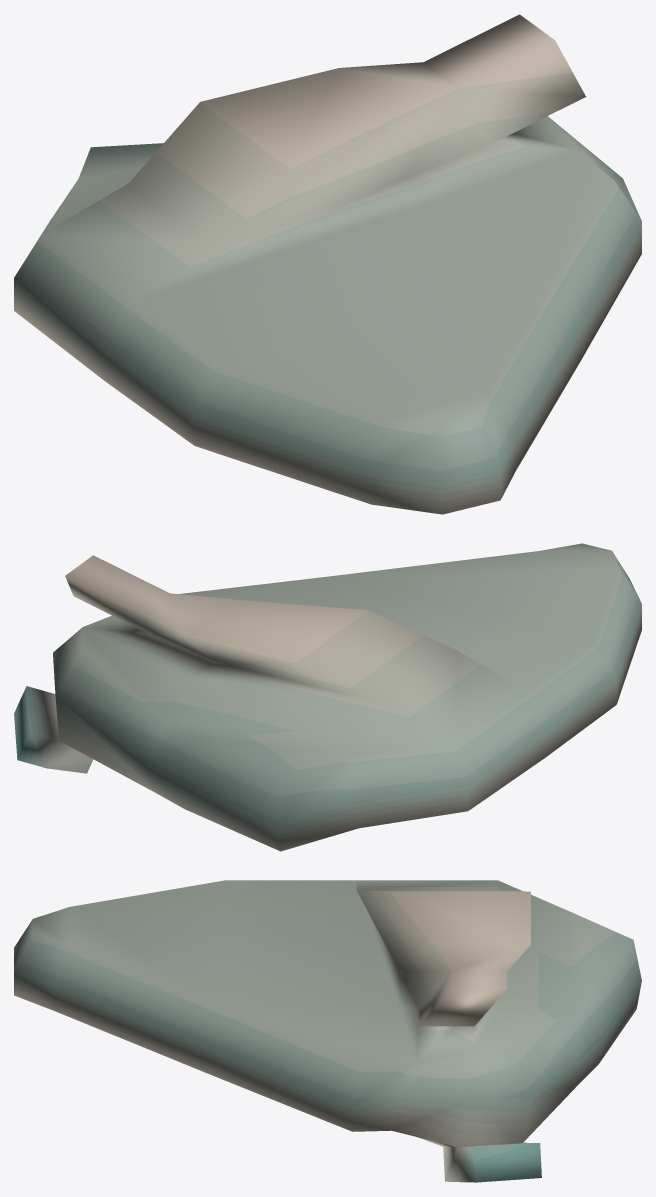
File: Bone_Shoulder.fbx
3 views of the same model, one above another, from view 1: azimuth 30°, elevation 25°; view 2: azimuth 150°, elevation 25°; view 3: azimuth 270°, elevation 25° (orthographic). The views are drawn at different scales.
Parts seen in each view (by area): view 1: Bone_Shoulder; view 2: Bone_Shoulder; view 3: Bone_Shoulder.
Boxes of the visible parts, <box> form: Bone_Shoulder: <box>14,14,641,514</box>; Bone_Shoulder: <box>14,543,641,851</box>; Bone_Shoulder: <box>14,880,641,1182</box>.
Bounding box in the file's own units: 1.01 × 0.4075 × 1.19.
